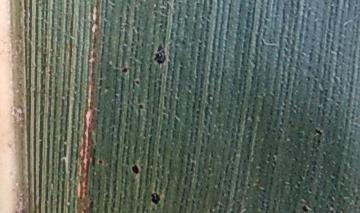tarspot: (153, 42, 167, 65), (150, 191, 160, 206), (131, 163, 139, 176), (314, 127, 323, 136), (301, 204, 309, 213), (88, 199, 95, 209), (120, 67, 128, 75), (137, 103, 145, 110), (96, 158, 104, 165), (315, 137, 322, 145), (180, 38, 186, 46), (134, 78, 140, 85)
